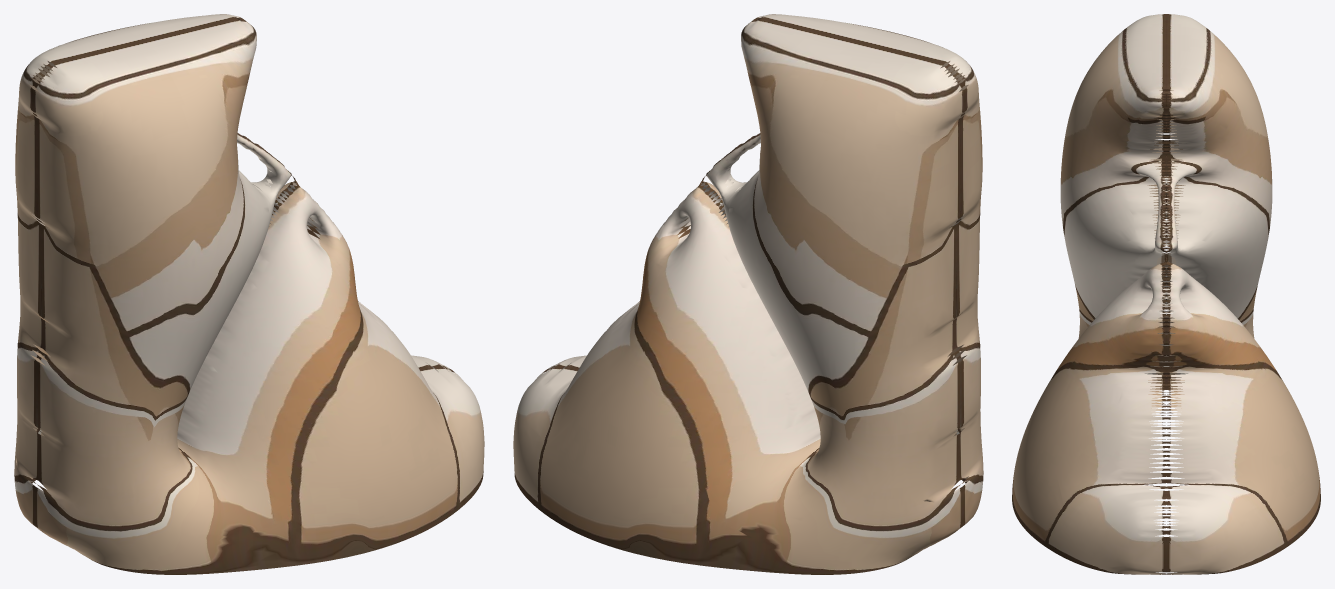
The model's file is corner_buttress.glb.
The picture shows the model from 3 angles, left to right: view 1: azimuth 30°, elevation 25°; view 2: azimuth 150°, elevation 25°; view 3: azimuth 270°, elevation 25°; orthographic projection. The views are drawn at different scales.
Visible parts, largest first — view 1: corner_buttress; view 2: corner_buttress; view 3: corner_buttress.
Part boxes in pixels (x1,y1,x2,y2): corner_buttress: [14, 14, 484, 574]; corner_buttress: [513, 14, 983, 574]; corner_buttress: [1012, 14, 1320, 574].
Bounding box in the file's own units: 0.9884 × 1.04 × 0.7333.
Materials: 1 (1 with a texture image).
